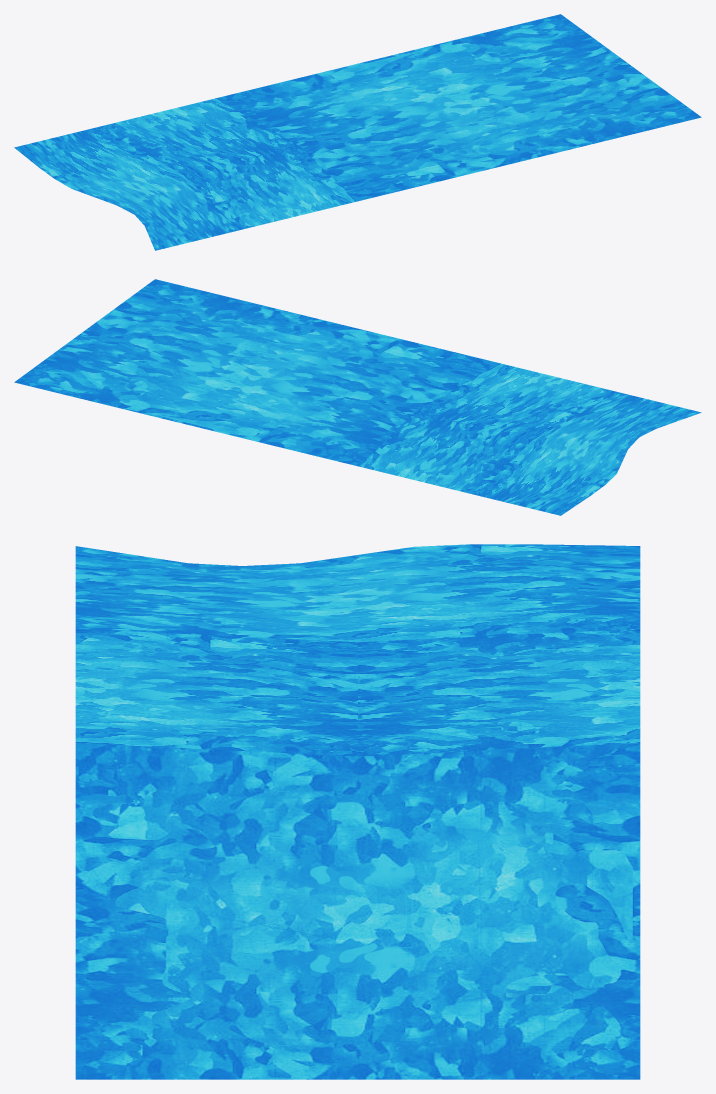
The model's file is bch_far1.fbx.
3 renders of one model, top to bottom at view 1: azimuth 30°, elevation 25°; view 2: azimuth 150°, elevation 25°; view 3: azimuth 270°, elevation 25°, orthographic. The views are drawn at different scales.
Parts seen in each view (by area): view 1: bch_far1; view 2: bch_far1; view 3: bch_far1.
Boxes of the visible parts, left/top/right/bottom form: bch_far1: left=14, top=14, right=701, bottom=250; bch_far1: left=14, top=279, right=701, bottom=515; bch_far1: left=75, top=544, right=640, bottom=1079.
Bounding box in the file's own units: 22444 × 13.59 × 10000.
